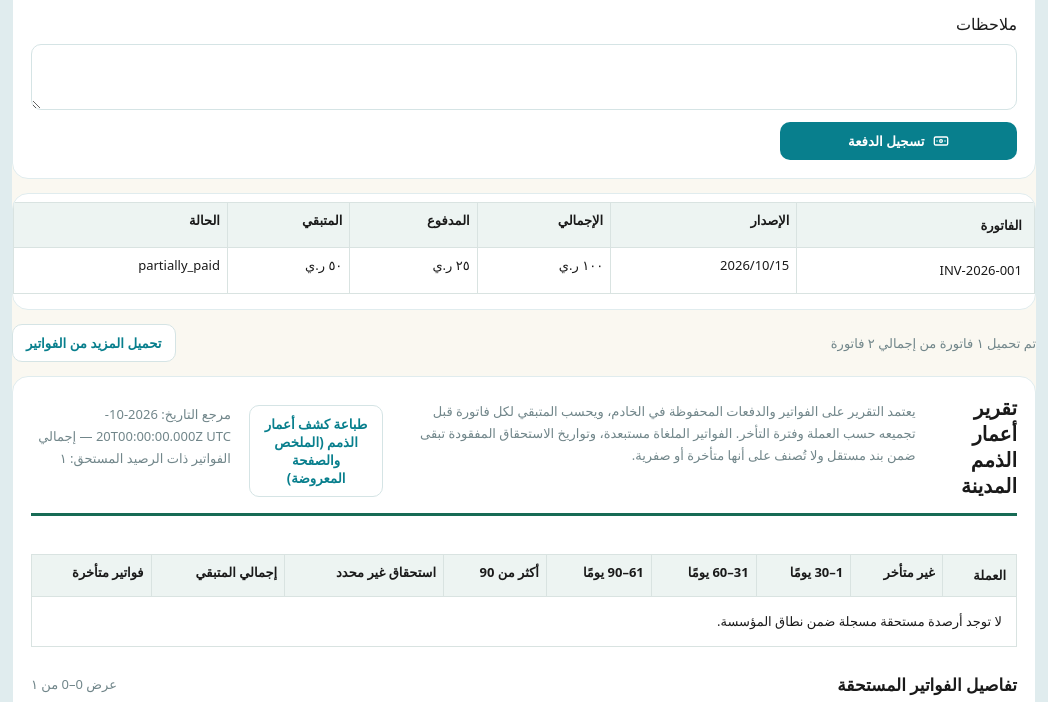
StaffFinancePage payment amount guard › uses stable cursor pagination and server-computed invoice totals
(page scrolled)
Click the button "تحميل المزيد من الفواتير".
click(94, 343)  # box [12,324,176,362]
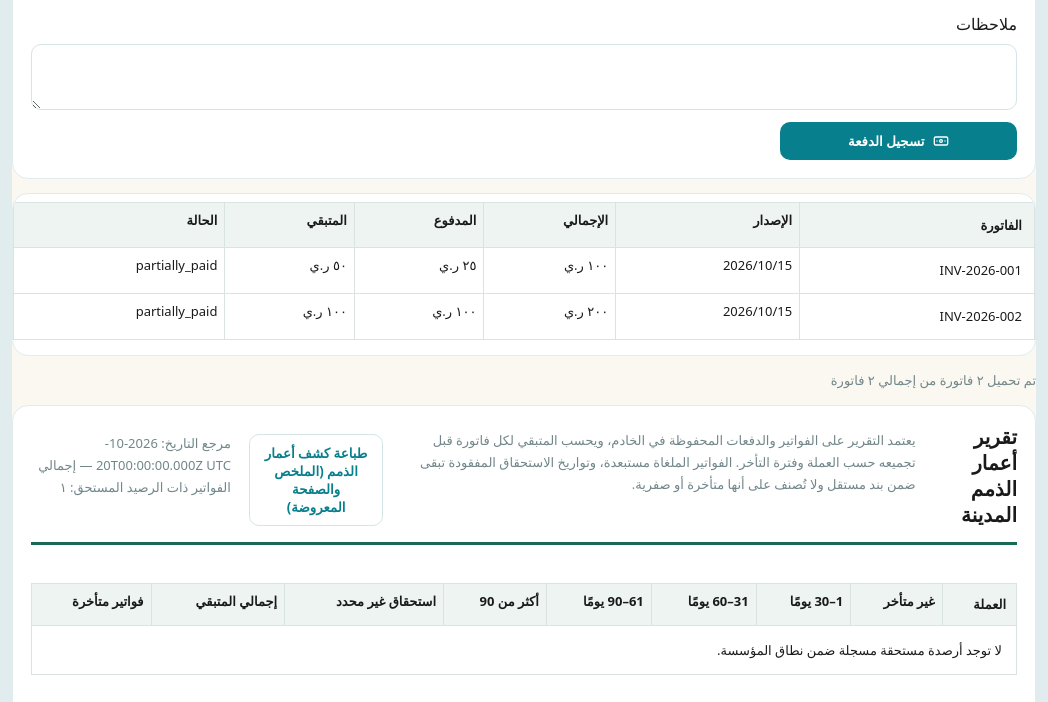
Check: the cell does not show ""
Check: the text "INV-2026-002" is shown, box [800,294,1034,340]
